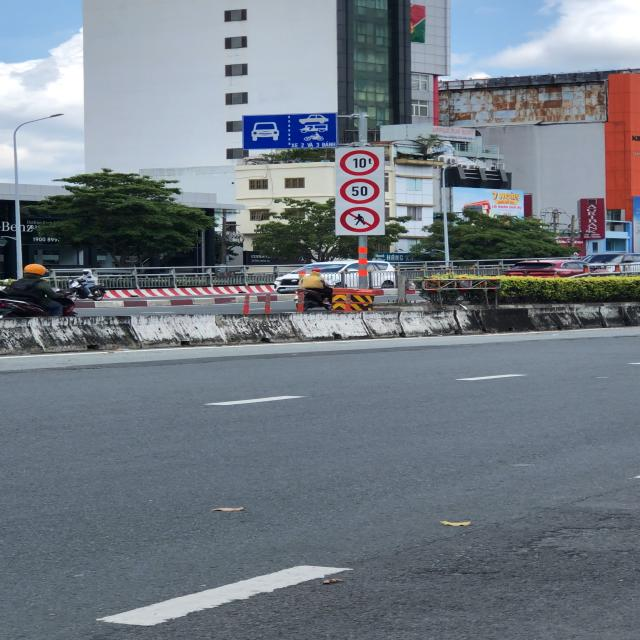Bien bao cam nguoi di bo: (335, 205, 388, 234)
Bien bao toc do toi da cho phep: (336, 177, 383, 205)
